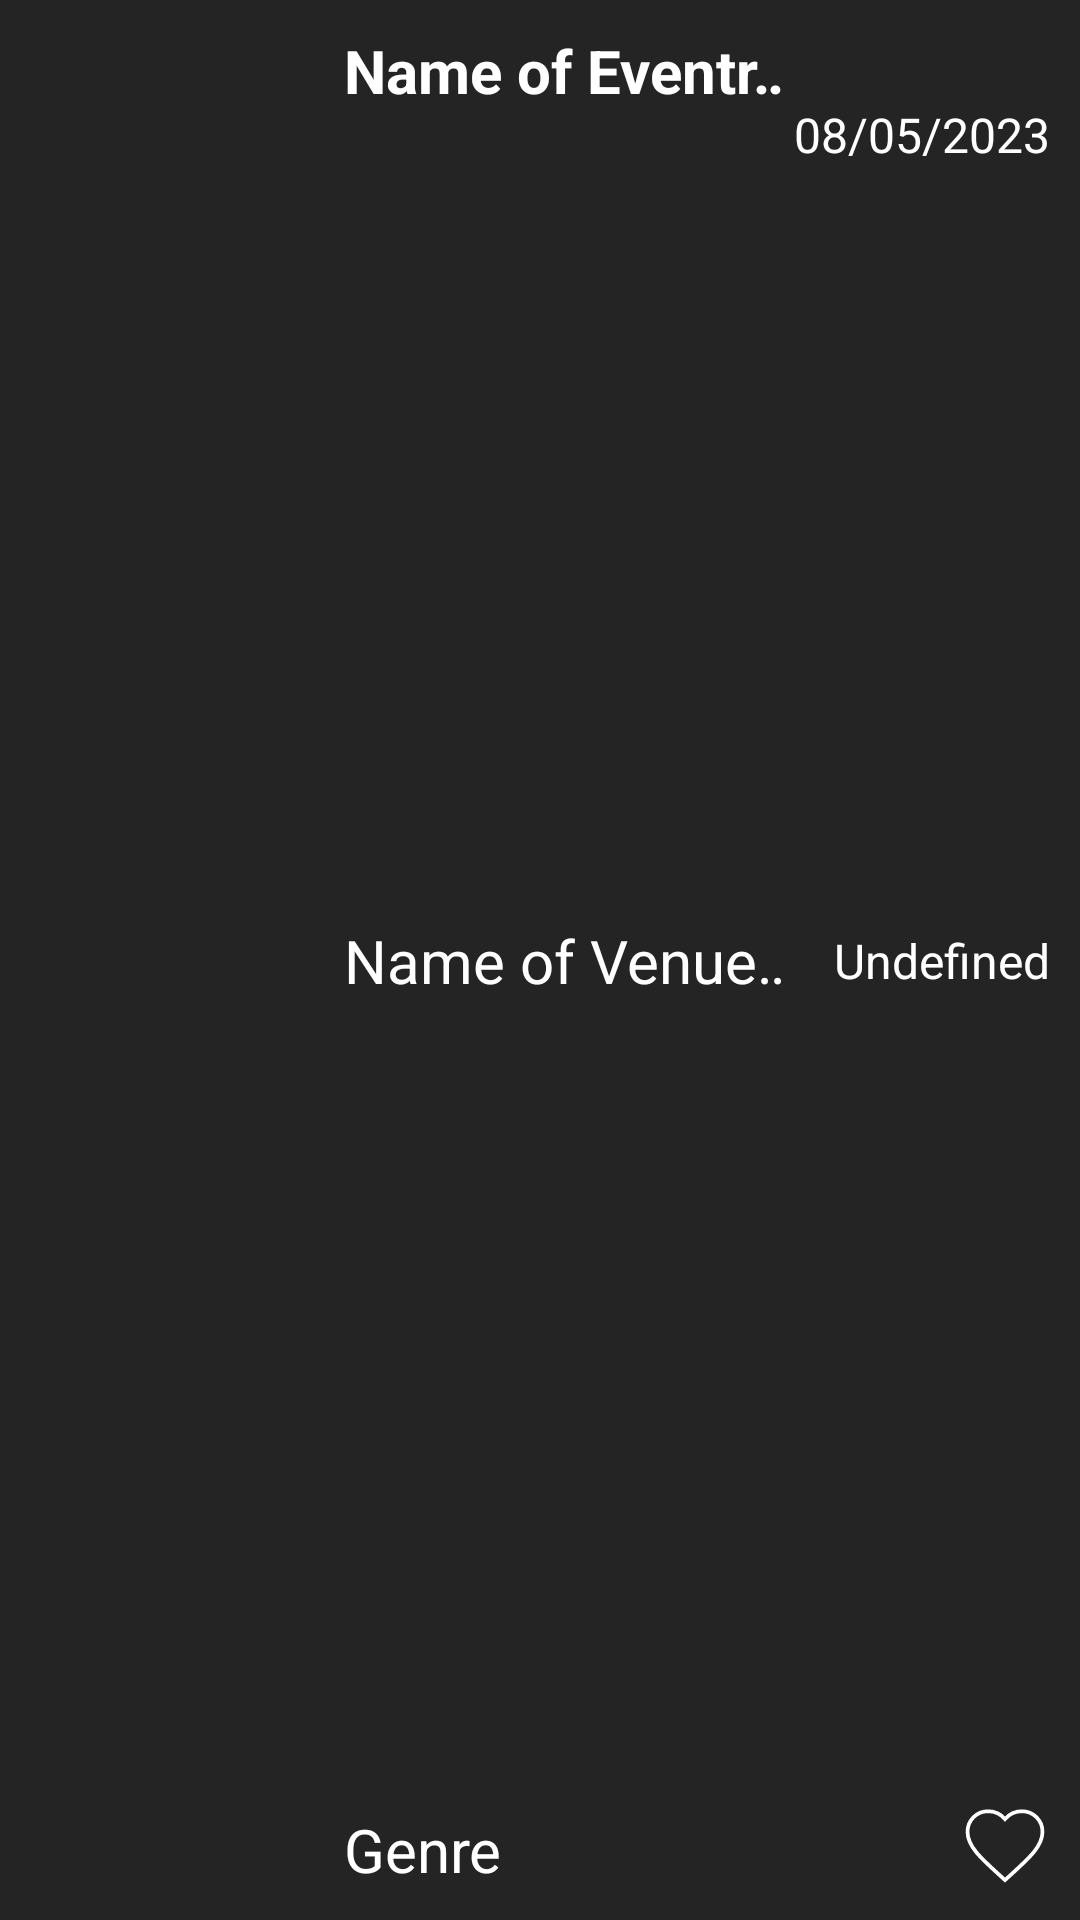

Icons on this 1080 × 1920 Android screen, each with its box as Rect(x1, y1, x2, y2):
heart: Rect(965, 1809, 1045, 1883)
